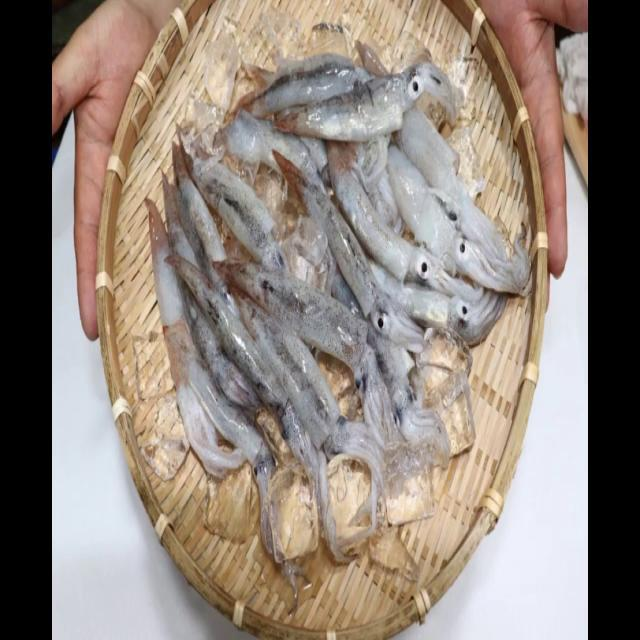squid: (164, 254, 348, 559), (213, 259, 402, 451), (354, 42, 508, 267), (241, 302, 387, 530), (272, 146, 427, 354), (148, 202, 246, 476), (168, 324, 278, 562), (325, 138, 482, 303), (332, 270, 450, 467), (384, 138, 532, 294), (160, 172, 256, 406), (175, 121, 291, 278), (268, 58, 456, 142), (366, 257, 508, 350), (224, 53, 374, 120)
